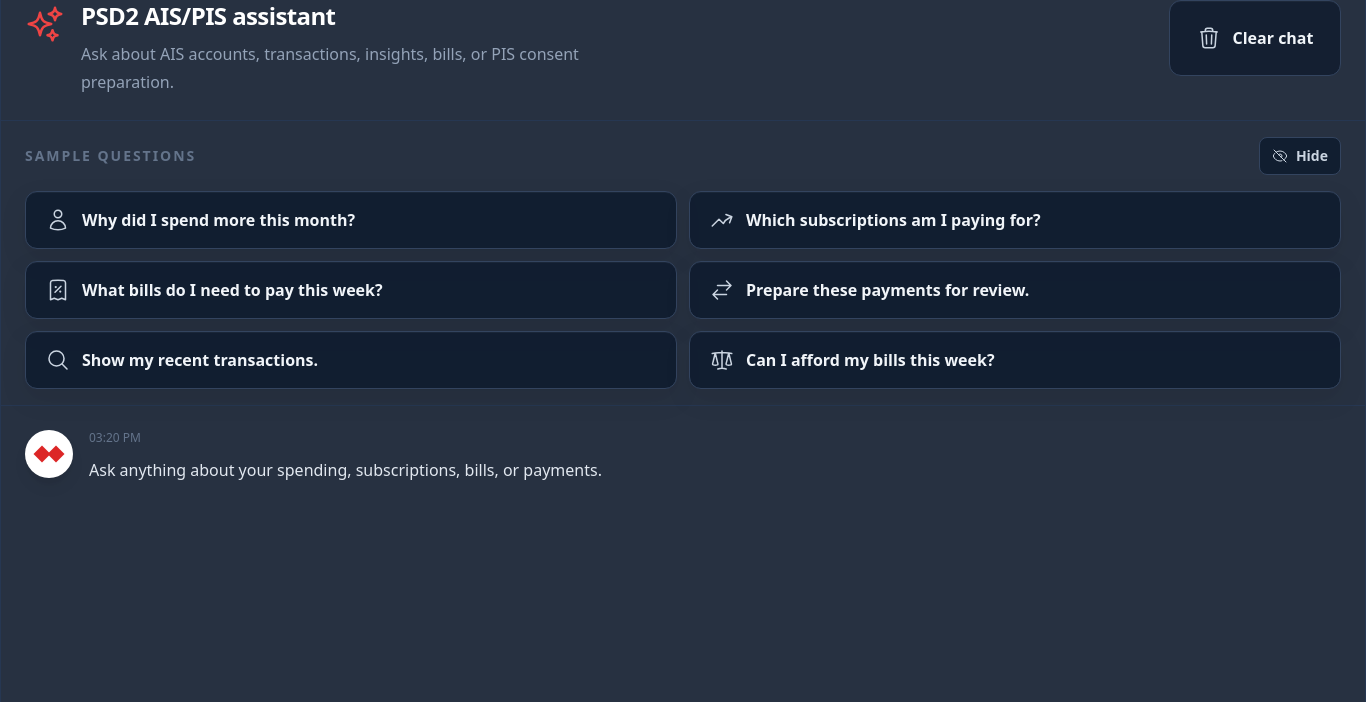
Test: FinancialAssistantChat › renders AIS consent card with Demo Bank redirect action
Click the button "What bills do I need to pay this week?": (351, 290) [25,261,677,319]
(page scrolled)
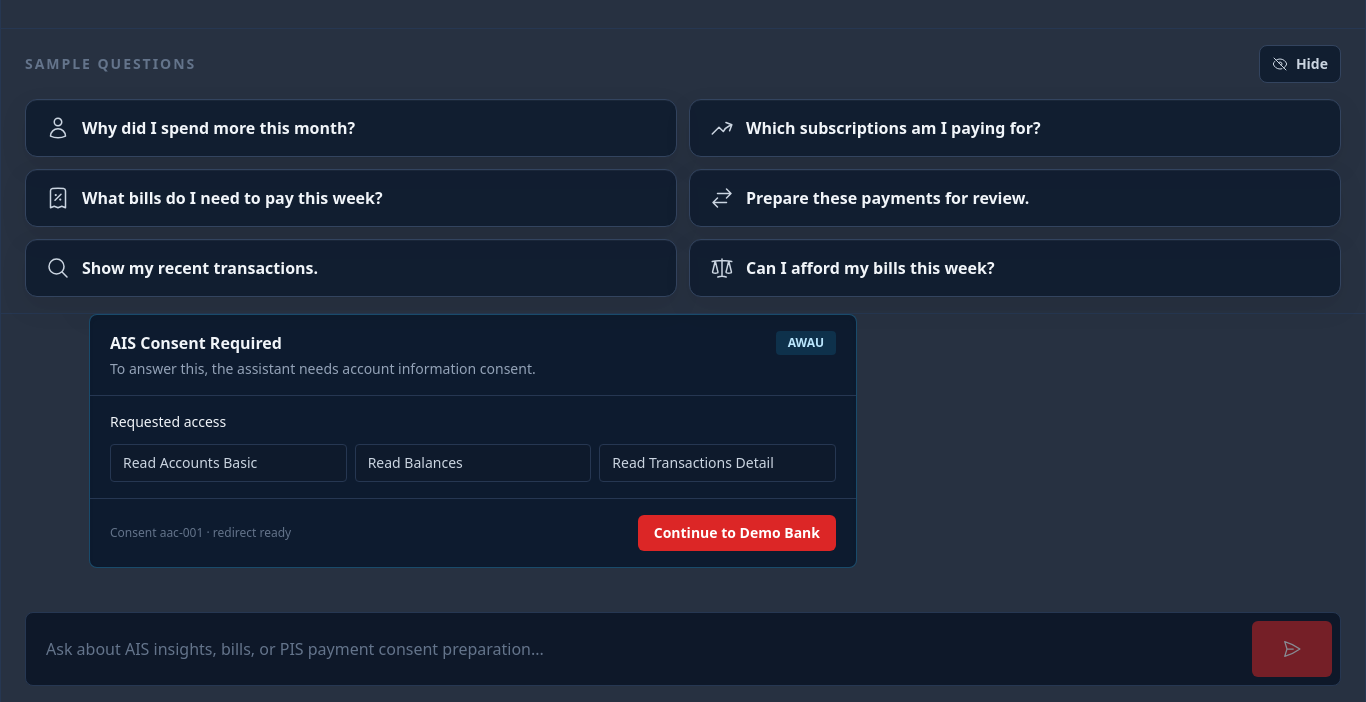
Expected: the text "AIS Consent Required" is shown, [110,332,282,354]
Expected: the button "Continue to Demo Bank" is shown, [638,514,836,550]
Expected: the list item "Read Accounts Basic" is shown, [110,444,347,482]
